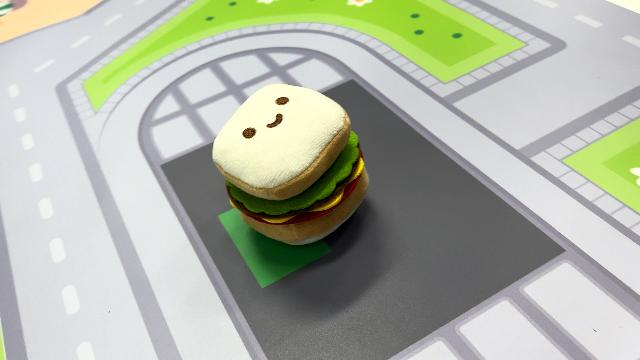sandwich: (209, 81, 371, 247)
